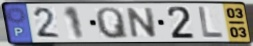1: (62, 6, 86, 42)
2: (167, 5, 197, 41), (32, 6, 62, 41)
L: (197, 5, 225, 40)
N: (126, 6, 158, 39)
Q: (94, 6, 131, 40)
